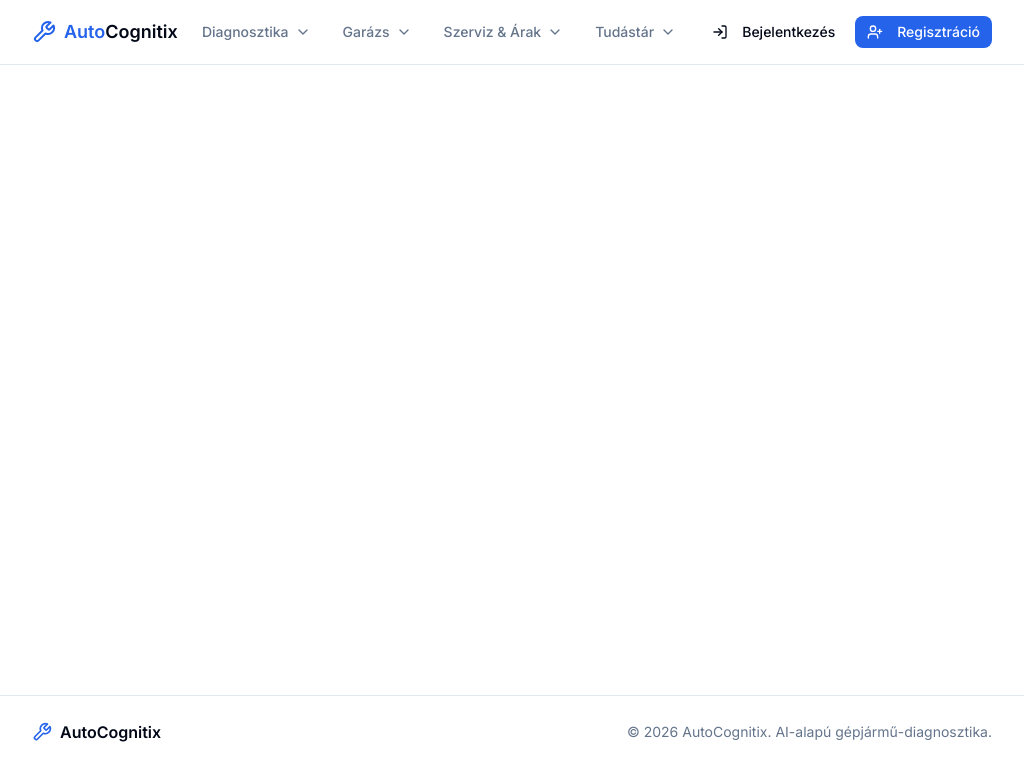
Scenario: Layout — grouped navigation › closes an open group when Escape is pressed
Click the button "Diagnosztika": (256, 32) [188,14,324,50]
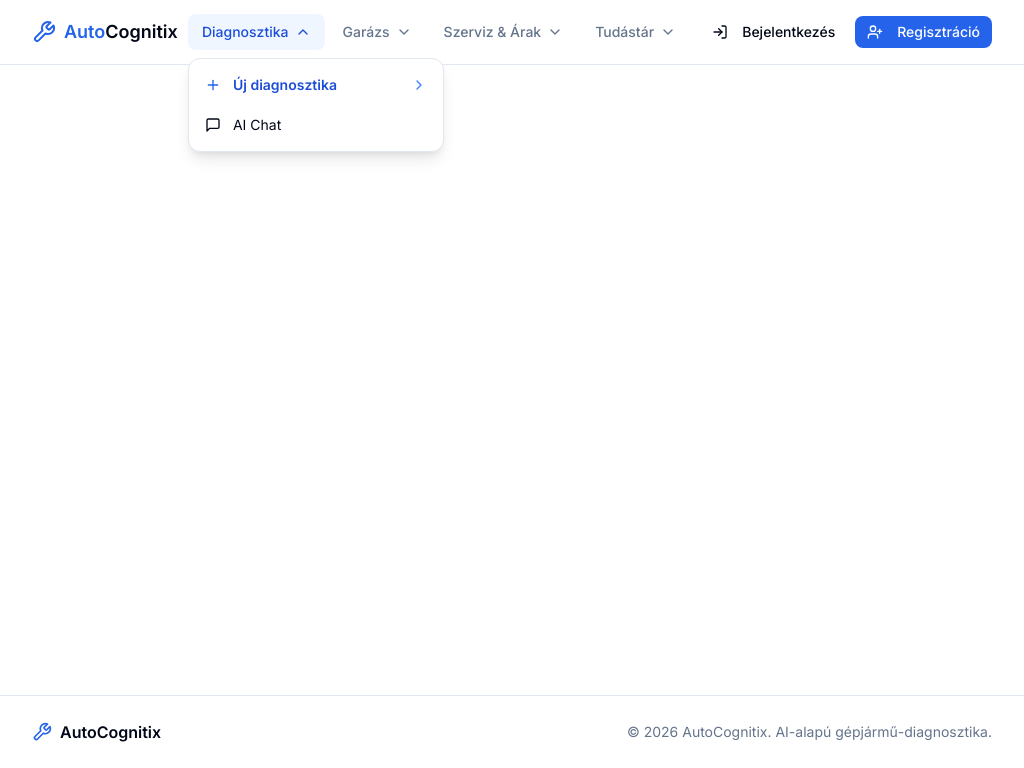
Expected: the link "Új diagnosztika" is shown, [205,76,427,93]
Press Escape in the button "Diagnosztika", box [188,14,324,50]
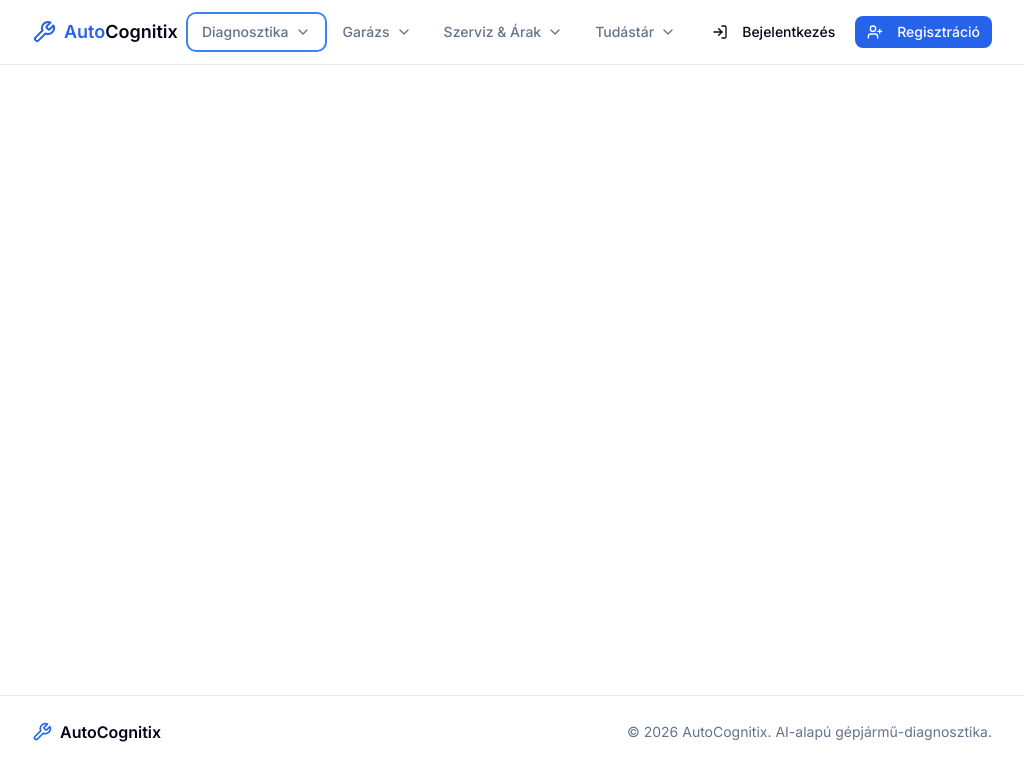
Expected: the link "Új diagnosztika" is gone
